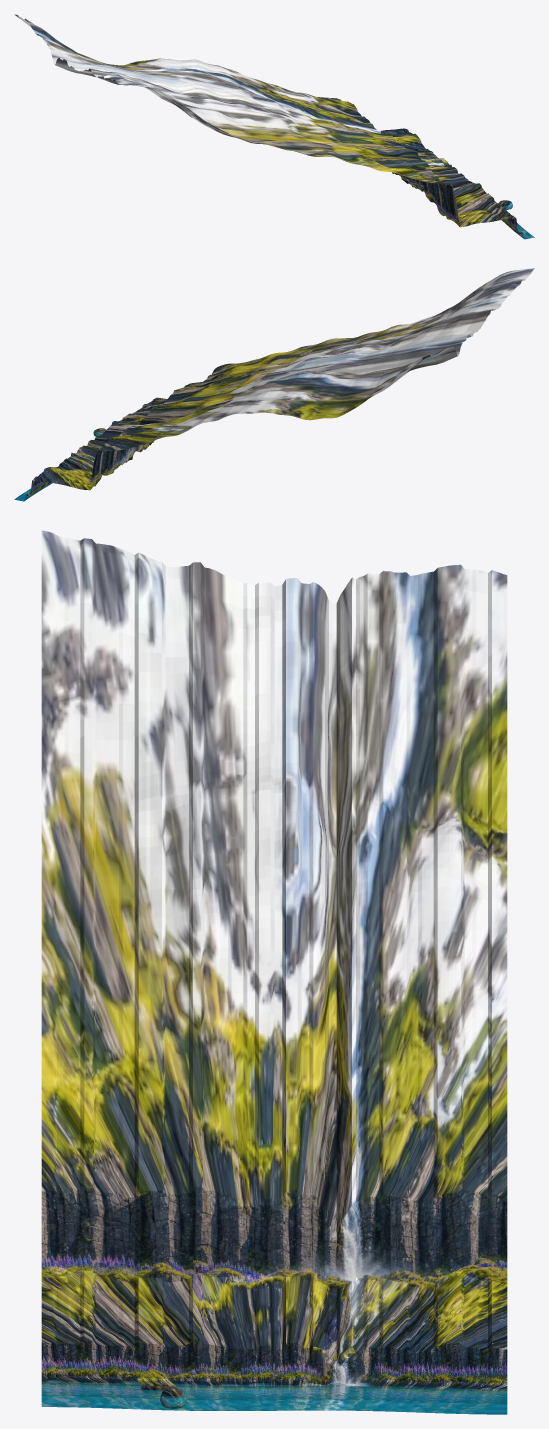
Rendered from cliffs.glb.
3 views of the same model, one above another, from view 1: azimuth 30°, elevation 25°; view 2: azimuth 150°, elevation 25°; view 3: azimuth 270°, elevation 25° (orthographic). The views are drawn at different scales.
Visible parts, largest first — view 1: Bank; view 2: Bank; view 3: Bank.
Boxes of the visible parts, bbox=[...] form: Bank: bbox=[14, 14, 534, 239]; Bank: bbox=[14, 268, 534, 501]; Bank: bbox=[41, 530, 507, 1414].
Bounding box in the file's own units: 243 × 139 × 120.
Materials: 1 (1 with a texture image).
